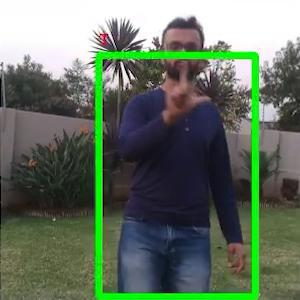land_hand: (161, 47, 214, 118)
